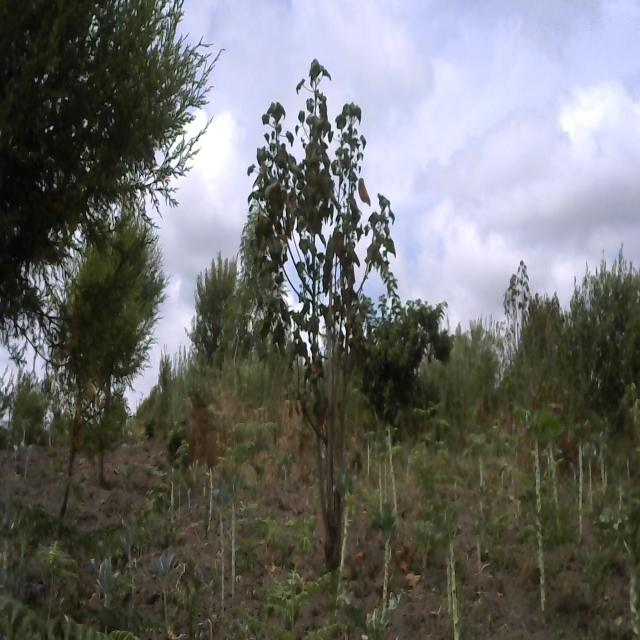Dombeya torrida: (249, 53, 400, 576)
Juniperus procesera: (0, 8, 210, 238), (66, 192, 150, 539)
Olea europea -africana-: (563, 258, 640, 398), (189, 257, 240, 364)
